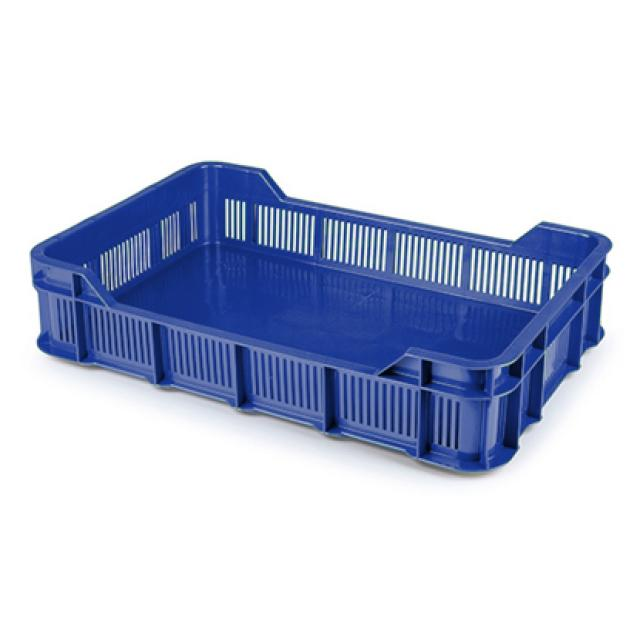basket: (5, 130, 625, 495)
